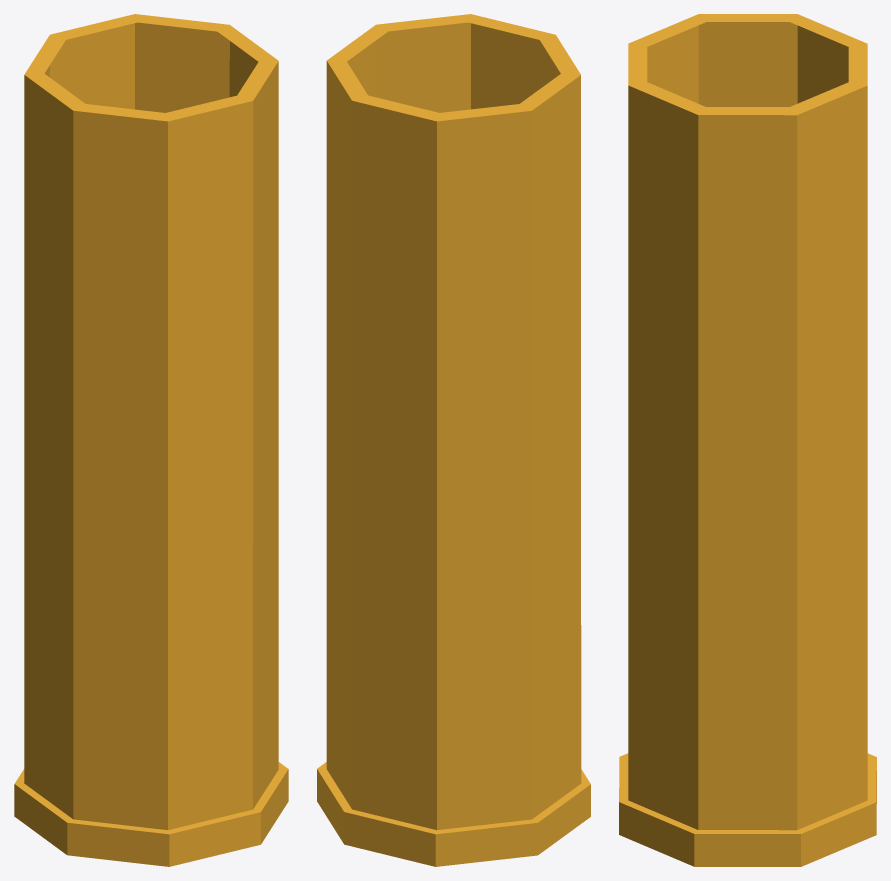
File: 357 Magnum.fbx
3 views of the same model, side by side, from view 1: azimuth 30°, elevation 25°; view 2: azimuth 150°, elevation 25°; view 3: azimuth 270°, elevation 25° (orthographic).
Parts seen in each view (by area): view 1: Bullet; view 2: Bullet; view 3: Bullet.
Part boxes in pixels (x1=…): Bullet: x1=14, y1=14, x2=288, y2=866; Bullet: x1=317, y1=14, x2=590, y2=866; Bullet: x1=619, y1=14, x2=876, y2=866.
Bounding box in the file's own units: 21.03 × 67.33 × 21.03.
